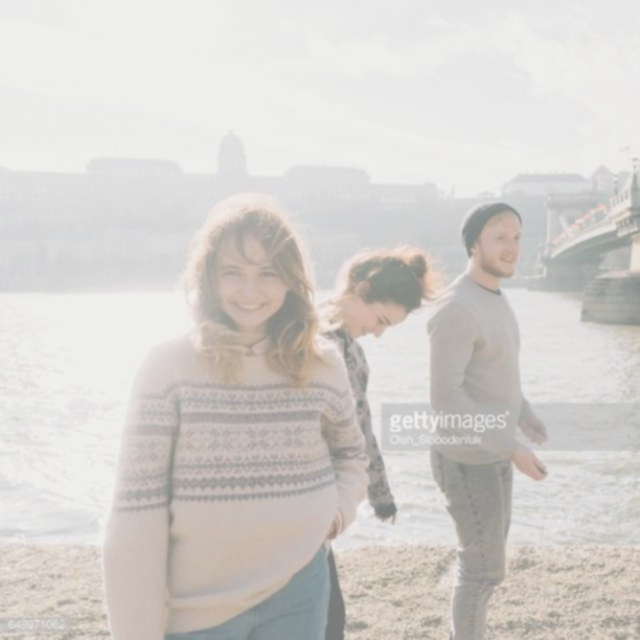pessoa: (95, 187, 376, 639), (422, 198, 552, 640), (308, 240, 446, 639)
